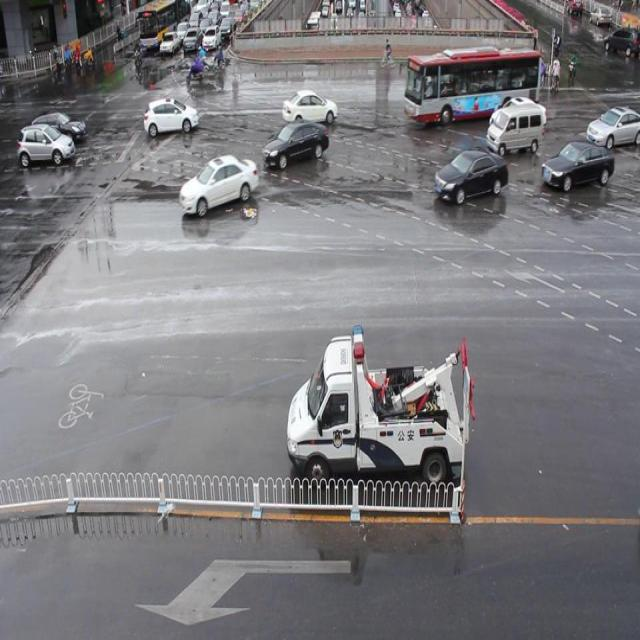bus: (286, 320, 475, 486)
car: (180, 153, 256, 214), (433, 150, 507, 201), (540, 140, 614, 188), (262, 124, 330, 165), (18, 124, 76, 166), (585, 106, 640, 149), (489, 95, 545, 136), (282, 89, 336, 126), (145, 99, 199, 134), (34, 113, 88, 145), (433, 54, 470, 92)
truck: (483, 108, 542, 153)
van: (403, 49, 541, 112)
